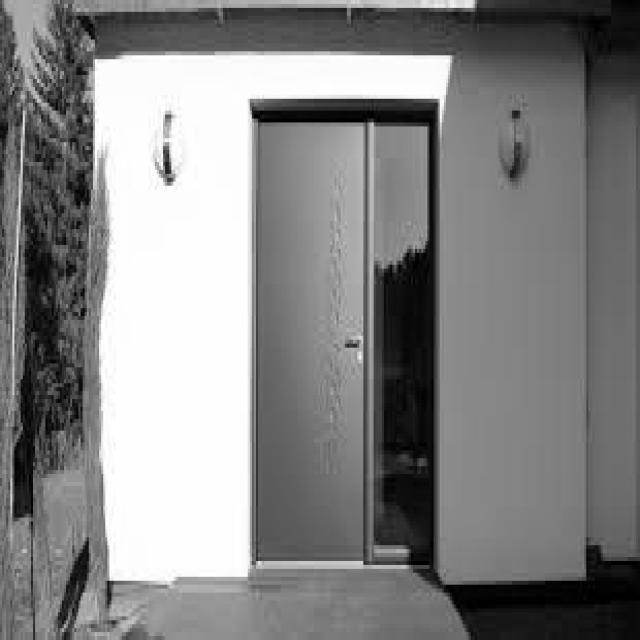door: (249, 80, 377, 594)
